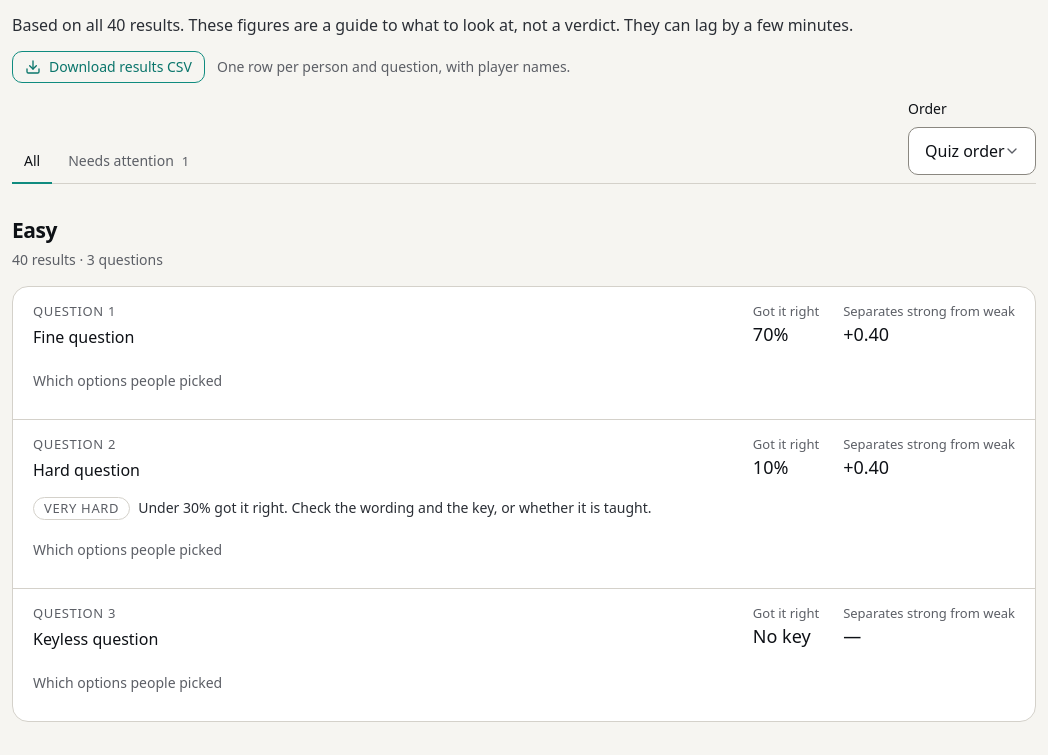
Test: Results by question › downloads the results as a CSV and says how many rows it holds
Click the button "Download results CSV" at point(108, 67), box [12, 51, 205, 83]
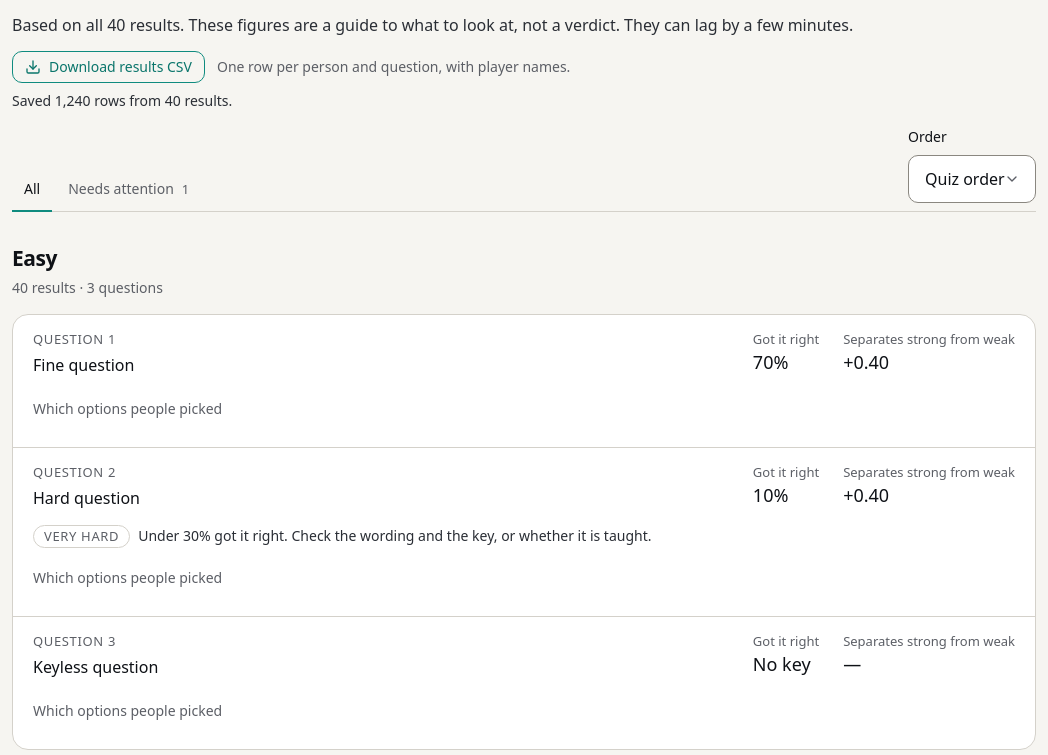
Result: the message reads "Saved 1,240 rows from 40 results." at [12, 91, 232, 110]
